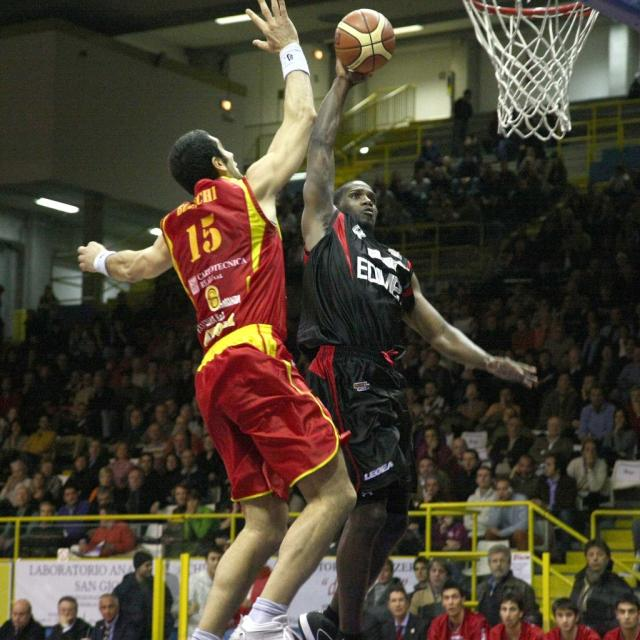Ball: (334, 9, 396, 73)
